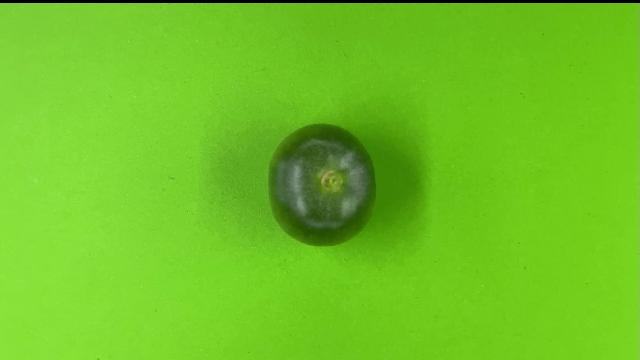Fruit Maturation: (265, 123, 379, 248)
